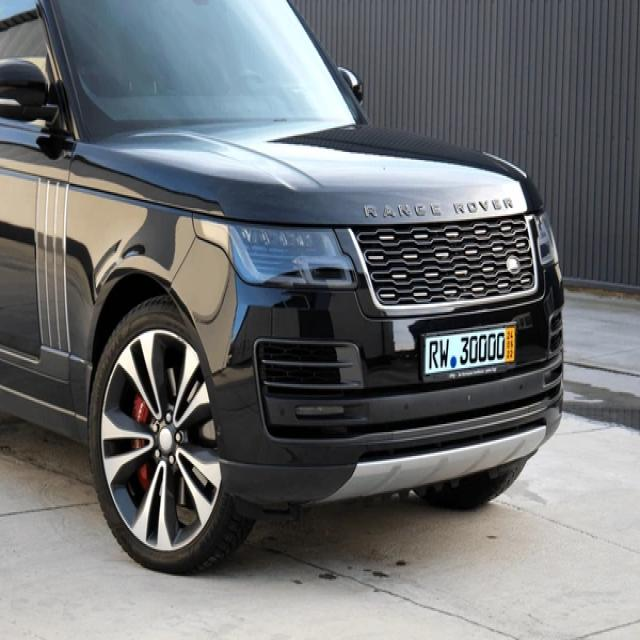rangerover: (362, 195, 517, 221)
